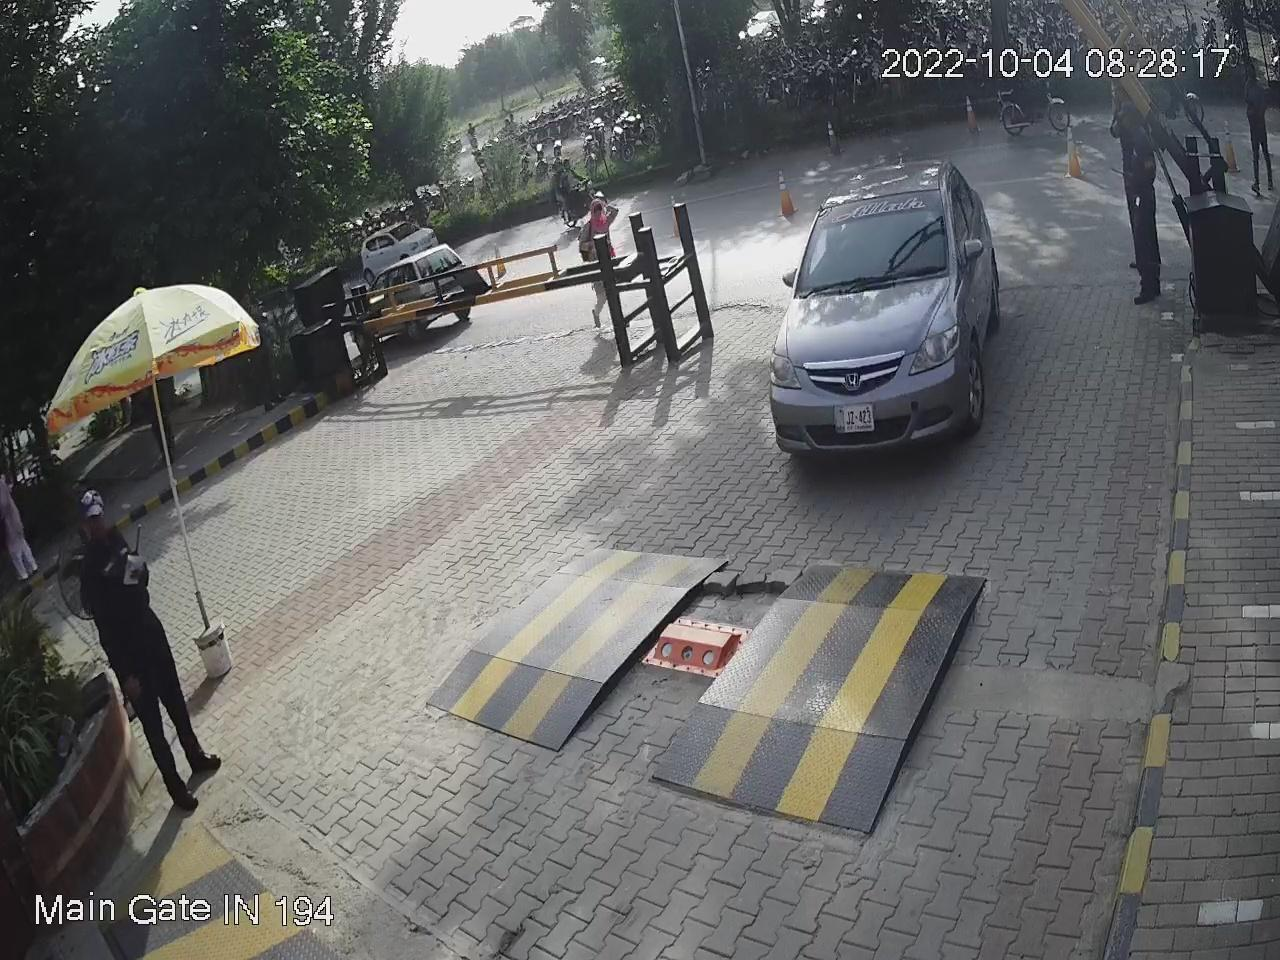windshield: (793, 193, 955, 295)
